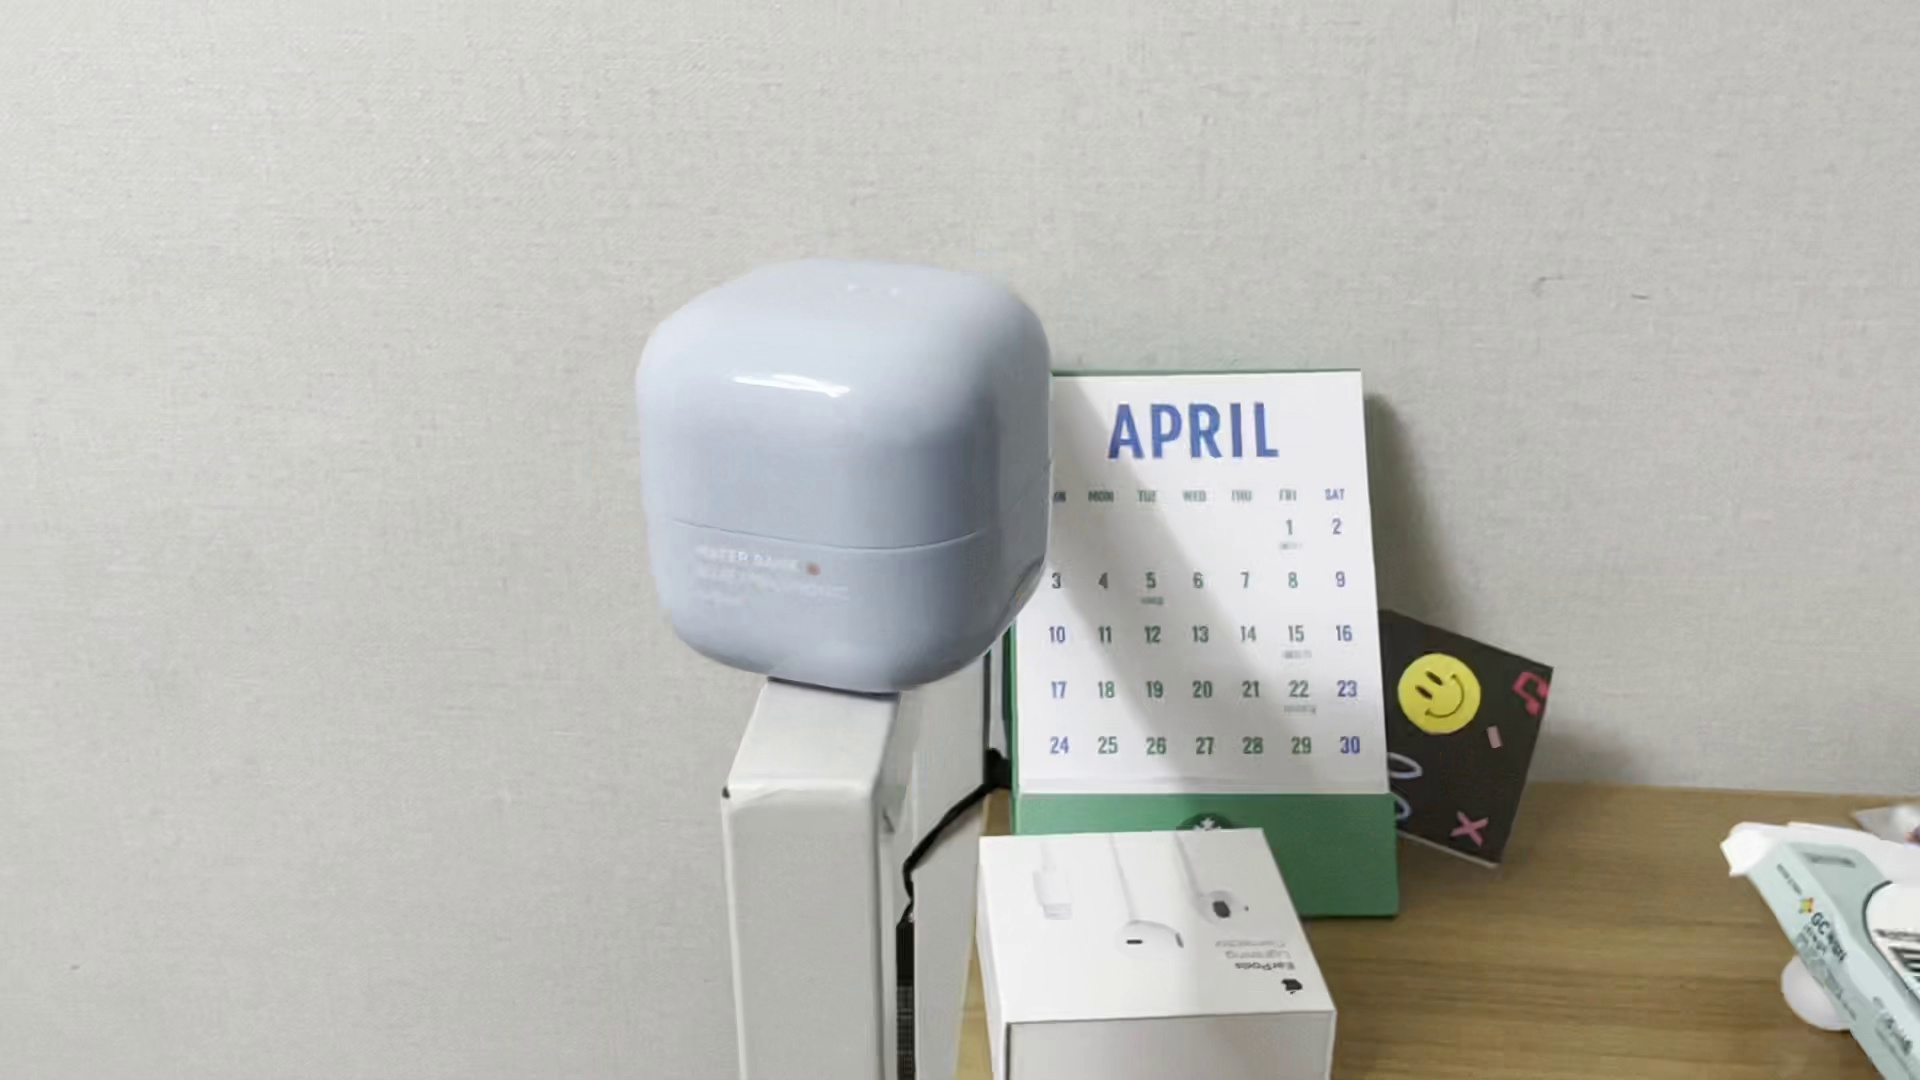cream: (624, 252, 1050, 702)
